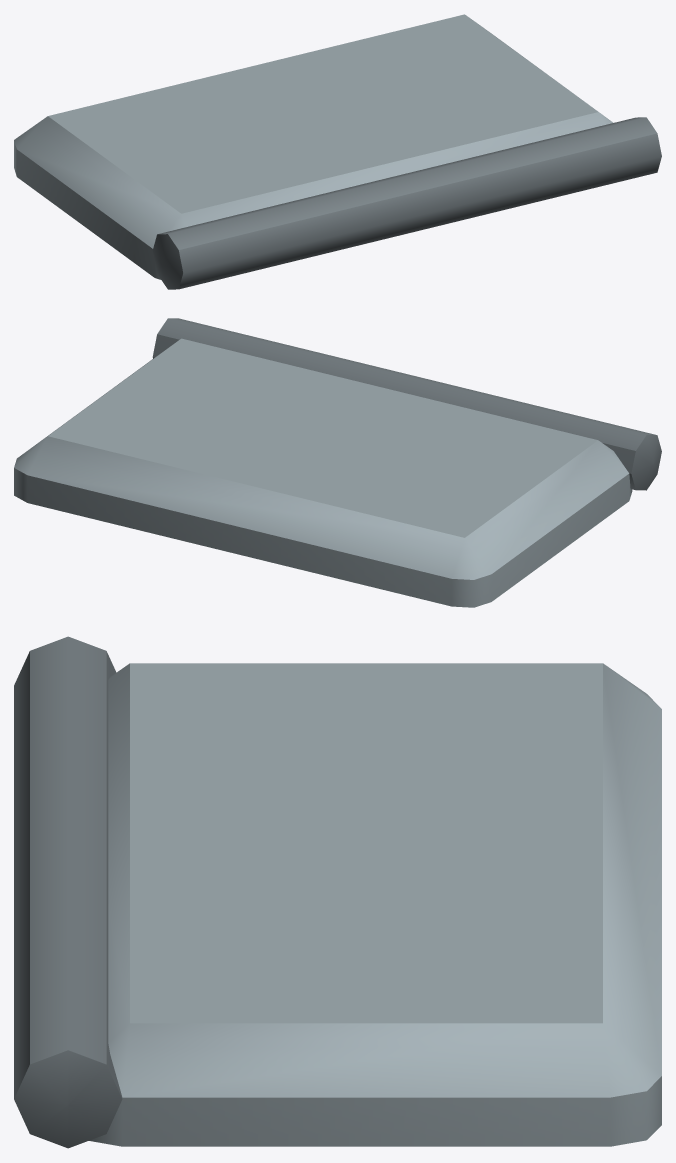
The model's file is icecream_container_top.obj.
3 views of the same model, one above another, from view 1: azimuth 30°, elevation 25°; view 2: azimuth 150°, elevation 25°; view 3: azimuth 270°, elevation 25° (orthographic). The views are drawn at different scales.
Visible parts, largest first — view 1: icecream_container_top_Cube.384; view 2: icecream_container_top_Cube.384; view 3: icecream_container_top_Cube.384.
Part boxes in pixels (x1,y1,x2,y2): icecream_container_top_Cube.384: (14,14,661,289); icecream_container_top_Cube.384: (14,318,661,607); icecream_container_top_Cube.384: (14,636,661,1148).
Bounding box in the file's own units: 0.9275 × 0.1 × 0.5974.
Materials: 1 (1 with a texture image).
